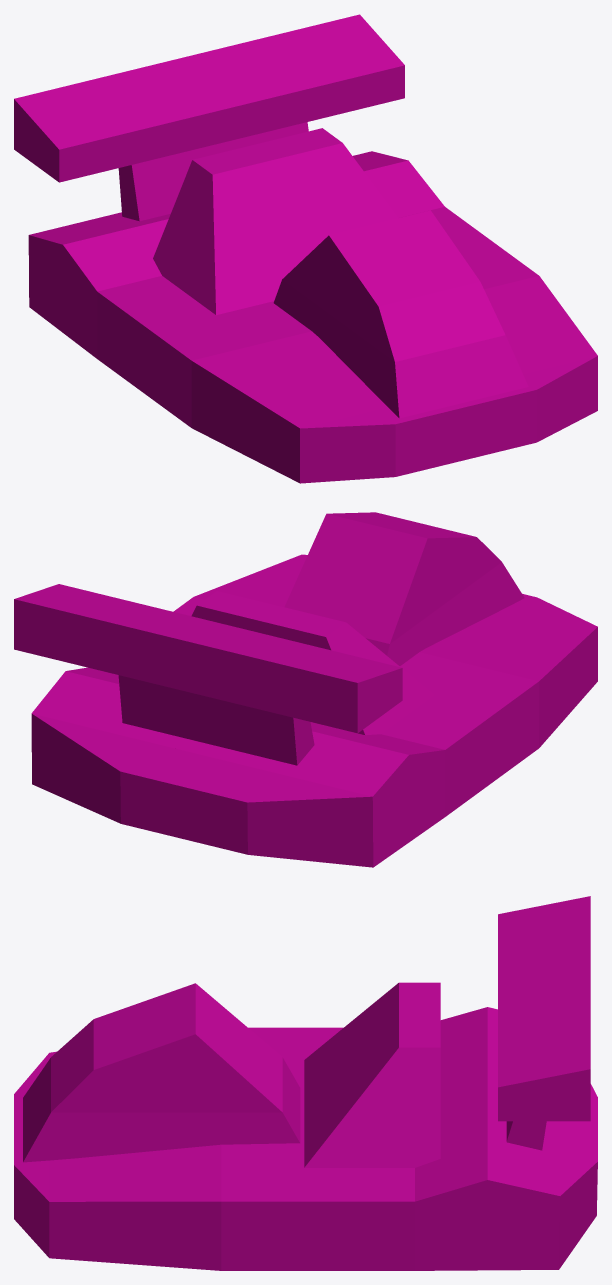
Rendered from SM_Veh_Kart_01_Preset_03_Collision.fbx.
3 views of the same model, one above another, from view 1: azimuth 30°, elevation 25°; view 2: azimuth 150°, elevation 25°; view 3: azimuth 270°, elevation 25° (orthographic). The views are drawn at different scales.
Visible parts, largest first — view 1: SM_Veh_Kart_01_Preset_03_Collision; view 2: SM_Veh_Kart_01_Preset_03_Collision; view 3: SM_Veh_Kart_01_Preset_03_Collision.
Boxes of the visible parts, bbox=[...] form: SM_Veh_Kart_01_Preset_03_Collision: bbox=[14, 14, 597, 483]; SM_Veh_Kart_01_Preset_03_Collision: bbox=[14, 512, 597, 867]; SM_Veh_Kart_01_Preset_03_Collision: bbox=[14, 896, 597, 1270].
Bounding box in the file's own units: 142 × 76.53 × 200.
